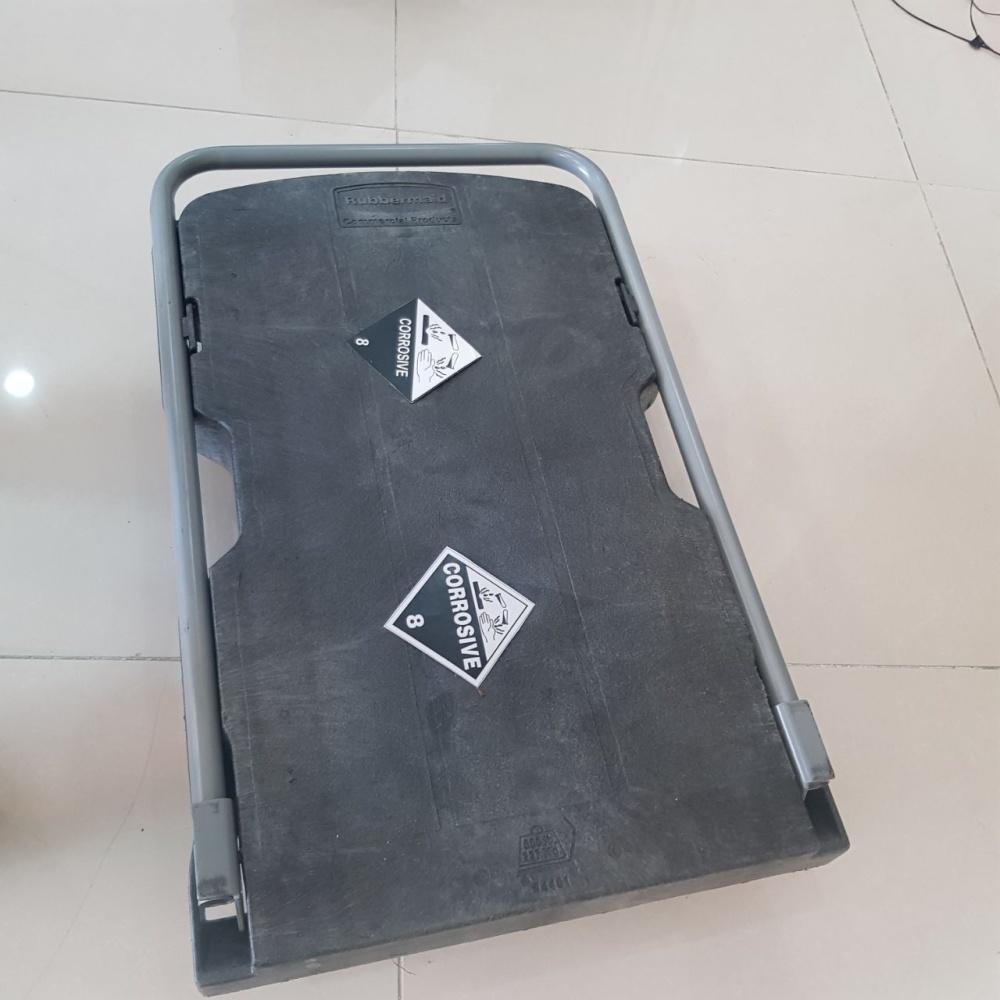corrosive: (392, 552, 528, 680), (349, 298, 483, 405)
